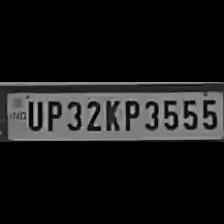2: (83, 97, 103, 132)
3: (140, 96, 160, 132), (64, 98, 82, 132)
5: (199, 96, 219, 130), (160, 96, 178, 132), (180, 96, 198, 130)
K: (101, 97, 119, 132)
P: (120, 97, 140, 133), (43, 97, 62, 132)
U: (24, 98, 42, 132)
